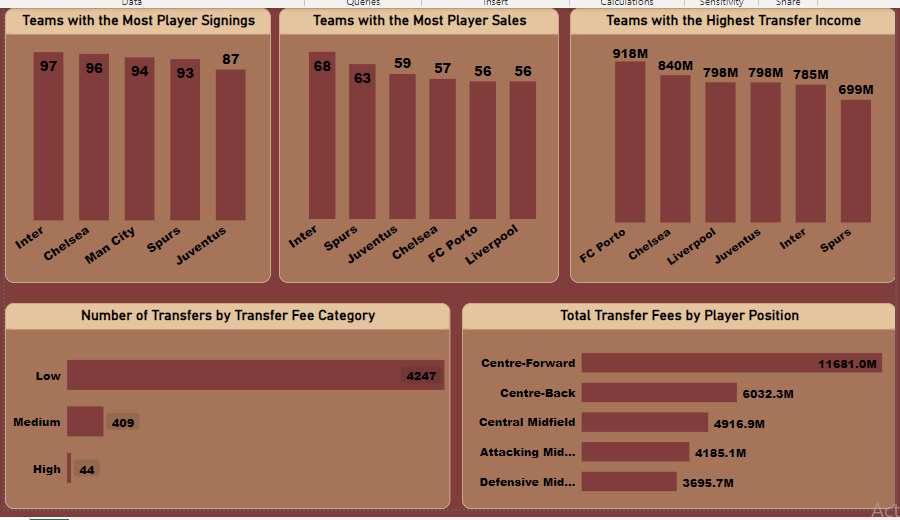

What the dashboard file says about the page in this screenshot:
{"tool":"powerbi","page":{"name":"Page 2","canvas":[1280,720],"ordinal":1},"visuals":[{"type":"columnChart","title":" Teams with the Highest Transfer Income","fields":{"Category":["Football Transfers.Team_from"],"Y":["DAX.Total Transfer Fees"]},"box":[812,0,468.5,395.2],"z":0},{"type":"clusteredBarChart","title":"Number of Transfers by Transfer Fee Category","fields":{"Category":["Football Transfers.Transfer_Fee_Category"],"Y":["DAX.Number of Transfers"]},"box":[0,424,639.5,296],"z":1000},{"type":"barChart","title":"Total Transfer Fees by Player Position","fields":{"Category":["Football Transfers.Position"],"Y":["DAX.Total Transfer Fees"]},"box":[656.8,424,623.7,296],"z":2000},{"type":"columnChart","title":"Teams with the Most Player Signings","fields":{"Category":["Football Transfers.Team_to"],"Y":["DAX.Number of Transfers"]},"box":[0,0,380.8,395.2],"z":3000},{"type":"columnChart","title":" Teams with the Most Player Sales","fields":{"Category":["Football Transfers.Team_from"],"Y":["DAX.Number of Transfers"]},"box":[393.8,0,402.4,395.2],"z":4000}]}

Visuals, with their boxes in screenshot pixels (x1, y1, x2, y2):
" Teams with the Highest Transfer Income" columnChart: bbox=(565, 14, 890, 288)
"Number of Transfers by Transfer Fee Category" clusteredBarChart: bbox=(2, 308, 446, 513)
"Total Transfer Fees by Player Position" barChart: bbox=(458, 308, 890, 513)
"Teams with the Most Player Signings" columnChart: bbox=(2, 14, 266, 288)
" Teams with the Most Player Sales" columnChart: bbox=(275, 14, 554, 288)
